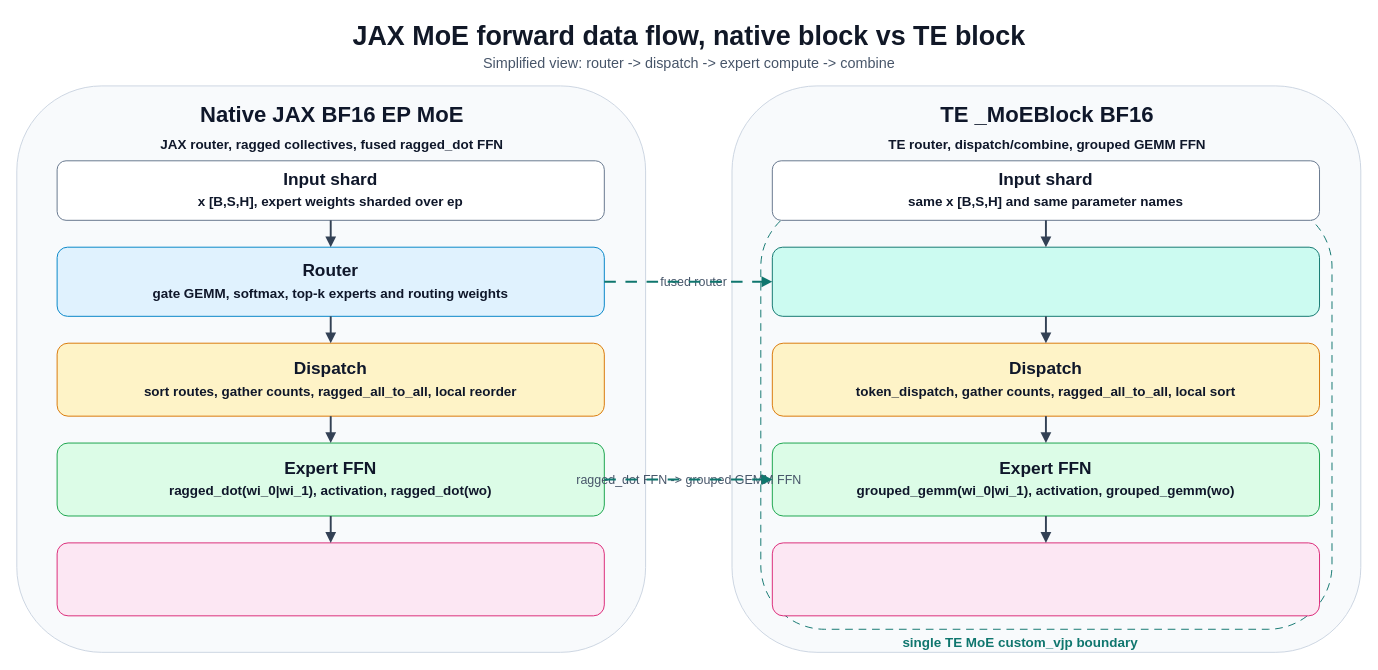
This 1378x670 diagram has some shape labels left out. The box of each missing label's shape, as (x1, y1, x2, y2) in pixels:
Combine inverse local sort, reverse ragged_all_to_all, token combine: (771, 542, 1320, 616)
Combine reverse reorder, reverse ragged_all_to_all, unsort and weight: (56, 542, 604, 616)
Router gate GEMM, tex.fused_topk_with_score_function_fwd: (771, 246, 1320, 316)
